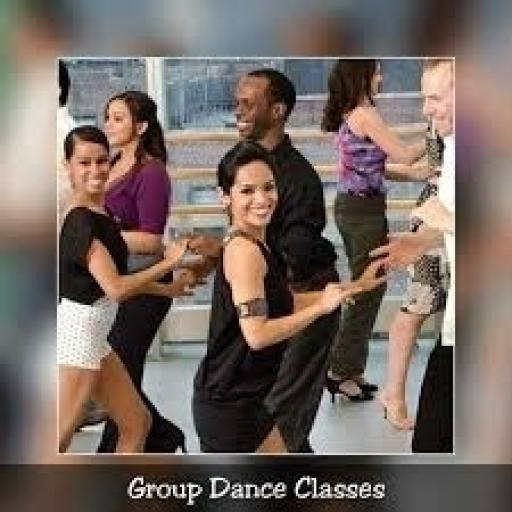dancing: (184, 139, 392, 455), (57, 123, 209, 455), (366, 57, 455, 444)
